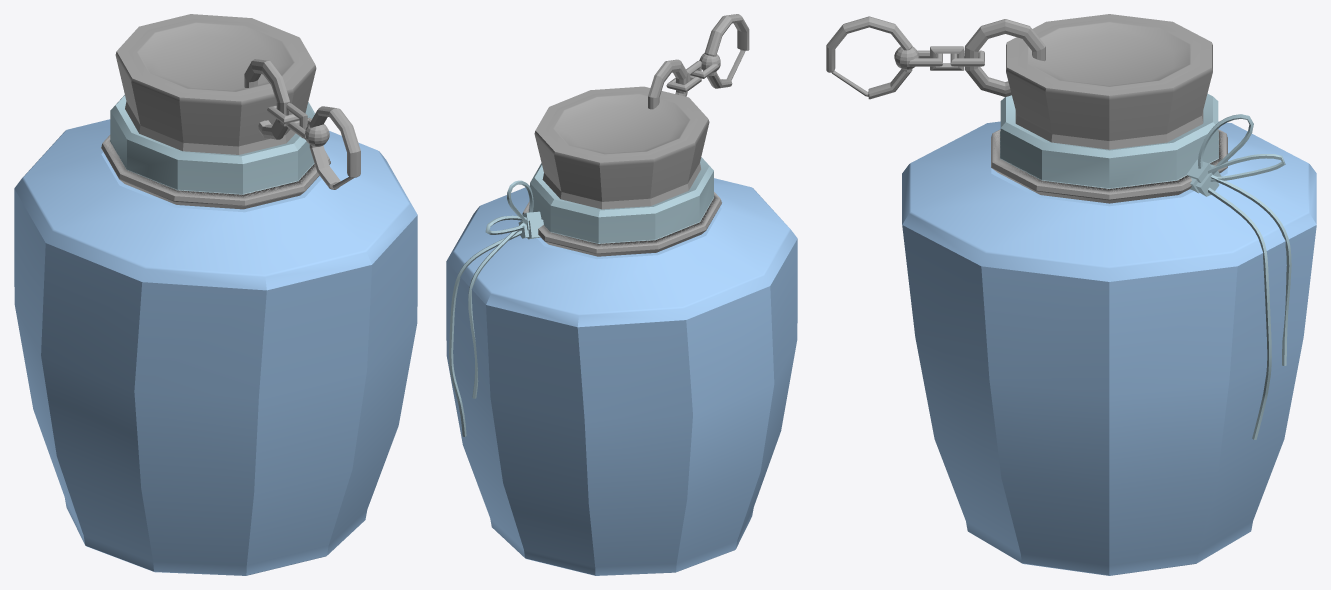
Rendered from Fluffybottle.fbx.
3 views of the same model, side by side, from view 1: azimuth 30°, elevation 25°; view 2: azimuth 150°, elevation 25°; view 3: azimuth 270°, elevation 25° (orthographic). The views are drawn at different scales.
Visible parts, largest first — view 1: Bottle, BottleCap, Bottlecoverthing, Bottle_ribbon, keyring, Ring; view 2: Bottle, BottleCap, Bottlecoverthing, ribbon, Bottle_ribbon, keyring, Ring; view 3: Bottle, BottleCap, Bottlecoverthing, ribbon, Bottle_ribbon, keyring, Ring.
Boxes of the visible parts, x1,y1,x2,y2 form: Bottle: (14, 119, 417, 575); BottleCap: (115, 14, 316, 154); Bottlecoverthing: (110, 95, 315, 194); Bottle_ribbon: (101, 135, 330, 209); keyring: (305, 106, 360, 189); Ring: (244, 59, 289, 139); Bottle: (446, 178, 797, 575); BottleCap: (534, 86, 709, 209); Bottlecoverthing: (530, 157, 714, 243); ribbon: (449, 180, 543, 436); Bottle_ribbon: (522, 192, 721, 256); keyring: (699, 14, 749, 88); Ring: (648, 59, 687, 109); Bottle: (902, 121, 1316, 575); BottleCap: (1006, 14, 1212, 149); Bottlecoverthing: (1000, 93, 1218, 188); ribbon: (1186, 114, 1291, 439); Bottle_ribbon: (991, 129, 1227, 203); keyring: (826, 16, 919, 99); Ring: (965, 19, 1045, 96).
Size of the model in its own units: 9.52 by 12.87 by 11.55.
